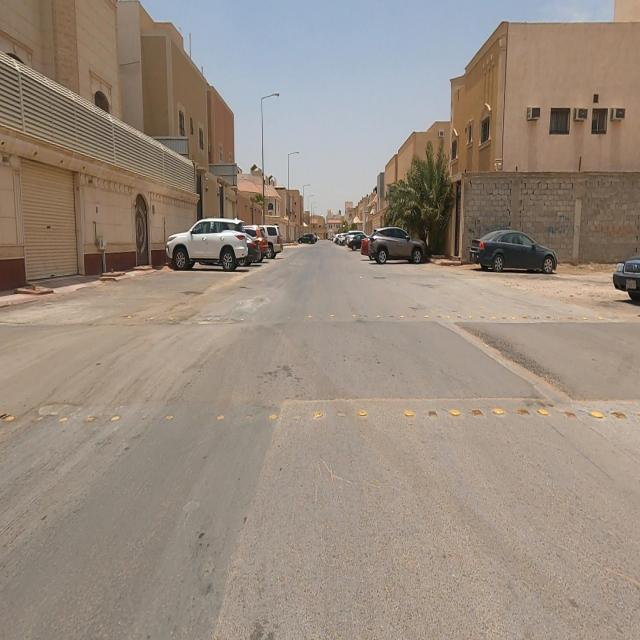debris: (522, 192, 592, 261)
